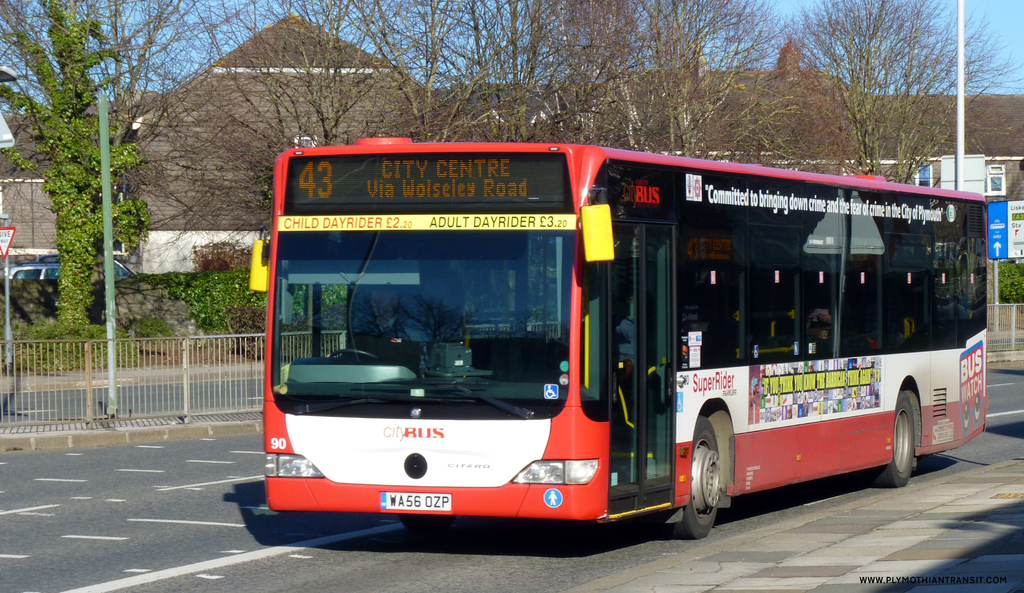Bus: (250, 135, 986, 539)
